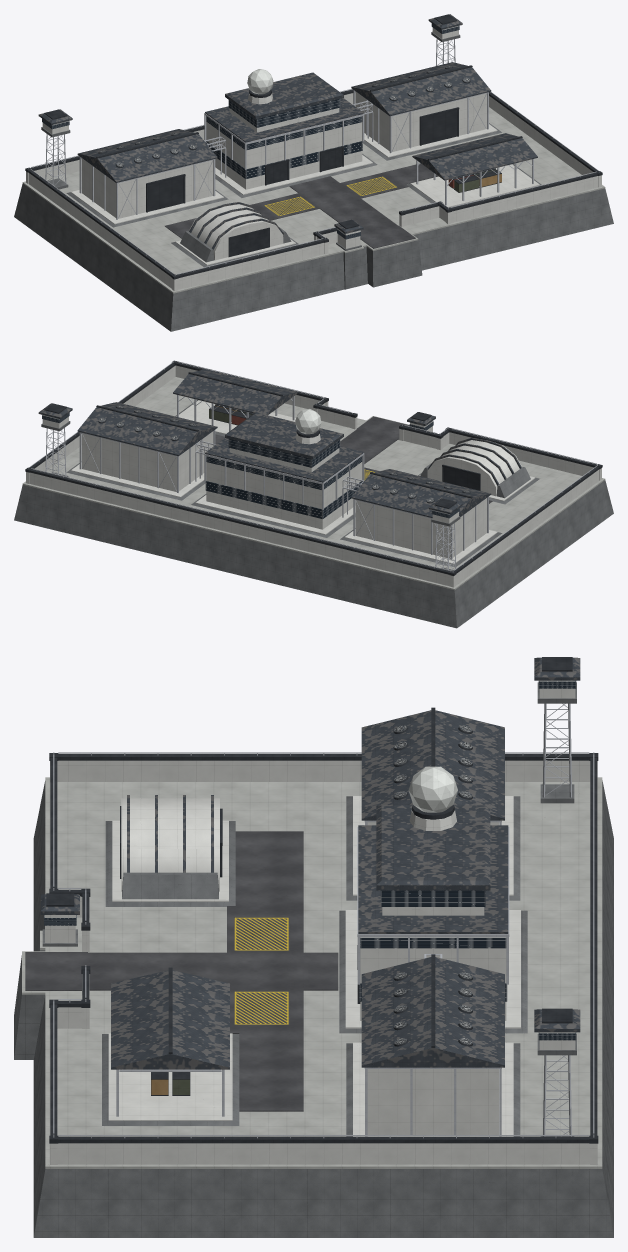
Rendered from barracks_lvl3.glb.
3 views of the same model, one above another, from view 1: azimuth 30°, elevation 25°; view 2: azimuth 150°, elevation 25°; view 3: azimuth 270°, elevation 25° (orthographic). The views are drawn at different scales.
Parts seen in each view (by area): view 1: BRK_L3_ConcLight, BRK_L3_ConcDark, BRK_L3_RoofCorr, BRK_L3_ConcMid, BRK_L3_SteelDark, BRK_L3_SteelTruss, BRK_L3_Asphalt, BRK_L3_WindowDark, BRK_L3_DoorCorr, BRK_L3_HatchZone, BRK_L3_Radome, BRK_L3_RoofVent; view 2: BRK_L3_ConcLight, BRK_L3_ConcDark, BRK_L3_RoofCorr, BRK_L3_ConcMid, BRK_L3_SteelDark, BRK_L3_SteelTruss, BRK_L3_WindowDark, BRK_L3_Asphalt, BRK_L3_DoorCorr, BRK_L3_Radome, BRK_L3_RoofVent; view 3: BRK_L3_ConcMid, BRK_L3_ConcDark, BRK_L3_ConcLight, BRK_L3_RoofCorr, BRK_L3_Asphalt, BRK_L3_SteelDark, BRK_L3_SteelTruss, BRK_L3_WindowDark, BRK_L3_HatchZone, BRK_L3_Radome, BRK_L3_RoofVent.
Boxes of the visible parts, x1,y1,x2,y2 form: BRK_L3_ConcLight: [26, 26, 601, 290]; BRK_L3_ConcDark: [14, 31, 613, 331]; BRK_L3_RoofCorr: [38, 14, 537, 249]; BRK_L3_ConcMid: [22, 105, 605, 293]; BRK_L3_SteelDark: [25, 14, 602, 279]; BRK_L3_SteelTruss: [28, 39, 599, 275]; BRK_L3_Asphalt: [165, 163, 438, 248]; BRK_L3_WindowDark: [42, 23, 459, 239]; BRK_L3_DoorCorr: [148, 110, 457, 211]; BRK_L3_HatchZone: [263, 176, 397, 216]; BRK_L3_Radome: [247, 69, 273, 94]; BRK_L3_RoofVent: [98, 66, 469, 166]; BRK_L3_ConcLight: [26, 365, 601, 587]; BRK_L3_ConcDark: [14, 400, 613, 628]; BRK_L3_RoofCorr: [38, 369, 521, 517]; BRK_L3_ConcMid: [22, 377, 605, 590]; BRK_L3_SteelDark: [25, 360, 602, 575]; BRK_L3_SteelTruss: [28, 361, 599, 572]; BRK_L3_WindowDark: [42, 412, 459, 518]; BRK_L3_Asphalt: [215, 416, 492, 503]; BRK_L3_DoorCorr: [444, 467, 478, 490]; BRK_L3_Radome: [295, 409, 321, 434]; BRK_L3_RoofVent: [98, 406, 469, 502]; BRK_L3_ConcMid: [22, 777, 602, 1168]; BRK_L3_ConcDark: [14, 682, 613, 1237]; BRK_L3_ConcLight: [44, 680, 597, 1164]; BRK_L3_RoofCorr: [40, 657, 580, 1069]; BRK_L3_Asphalt: [25, 831, 338, 1111]; BRK_L3_SteelDark: [46, 657, 598, 1143]; BRK_L3_SteelTruss: [53, 703, 594, 1138]; BRK_L3_WindowDark: [44, 681, 576, 1040]; BRK_L3_HatchZone: [234, 917, 289, 1024]; BRK_L3_Radome: [408, 766, 457, 812]; BRK_L3_RoofVent: [394, 725, 472, 1044].
Bounding box in the file's own units: 130 × 37.6 × 82.2.
15 materials, 15 textured.
